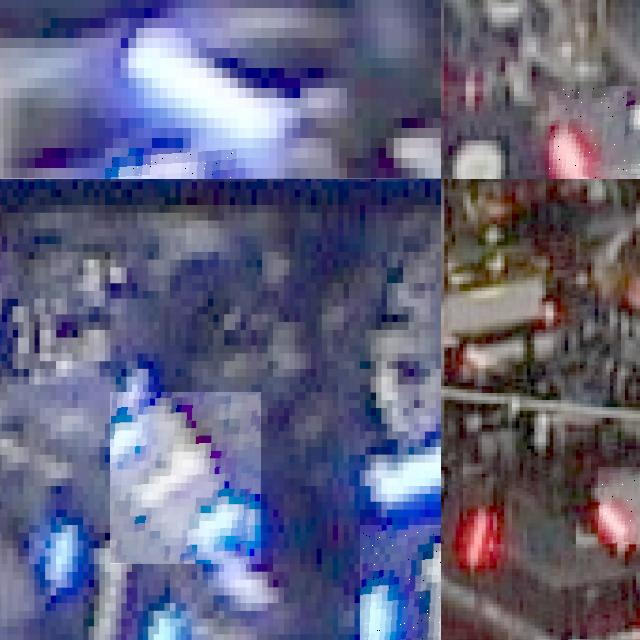B1: (110, 392, 262, 564), (45, 509, 175, 640), (359, 525, 441, 640)
B5: (105, 148, 237, 179)
R1: (549, 86, 640, 179), (441, 449, 493, 572), (598, 466, 640, 544)
